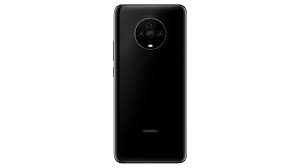huawei: (110, 2, 190, 165)
